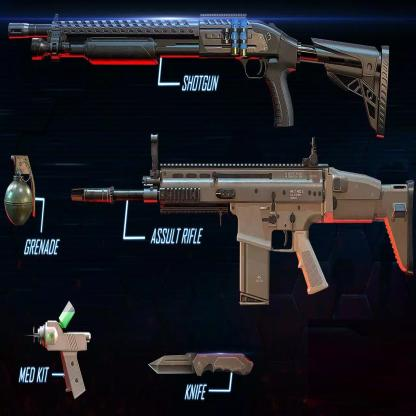Grenade: (4, 152, 36, 228)
Gun: (70, 130, 414, 307), (5, 10, 390, 143)
Knife: (146, 346, 254, 380)
